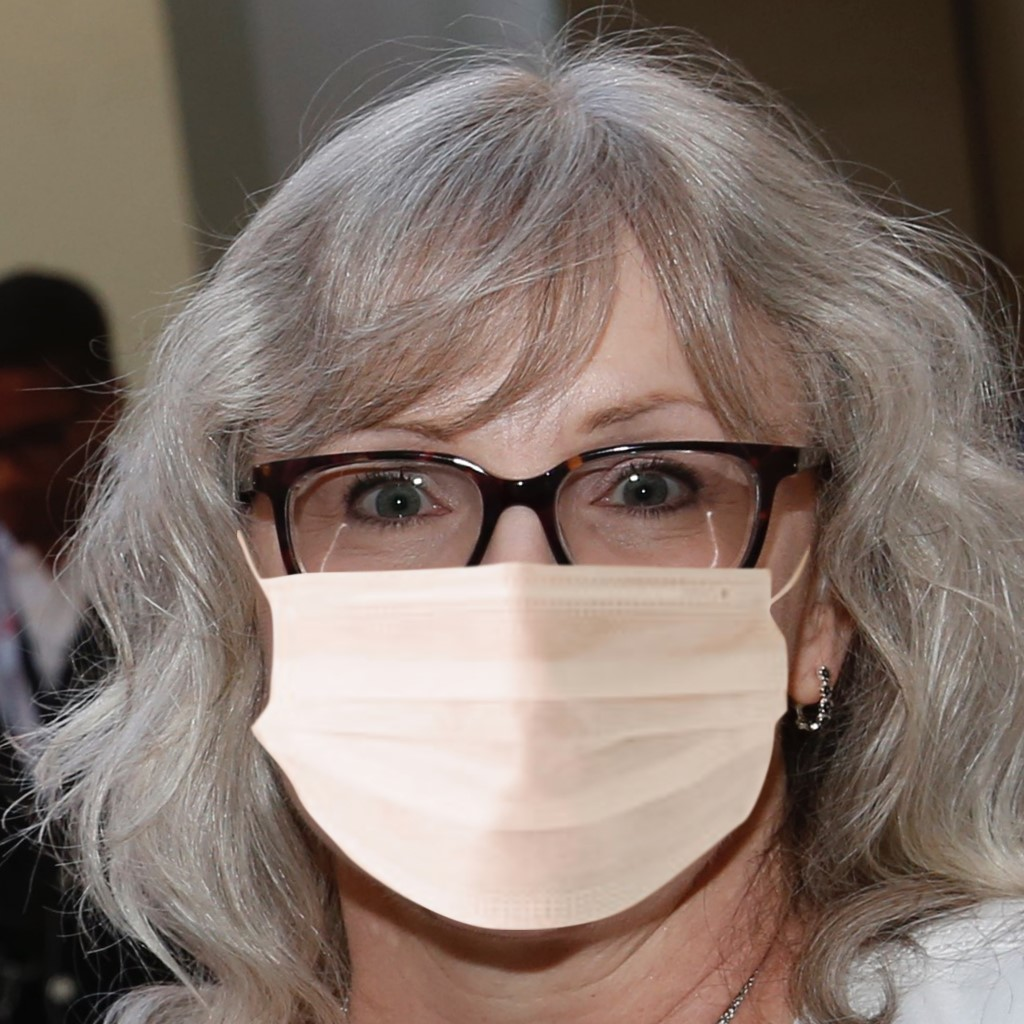con_mascara: (221, 248, 852, 933)
